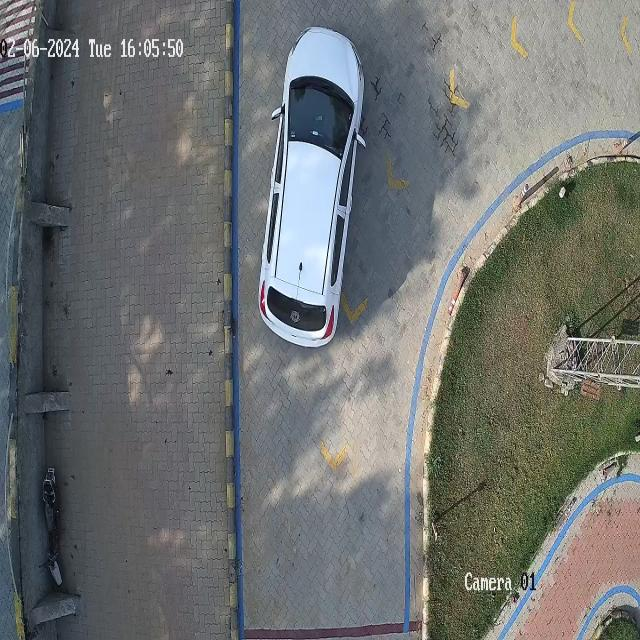car: (259, 27, 364, 347)
